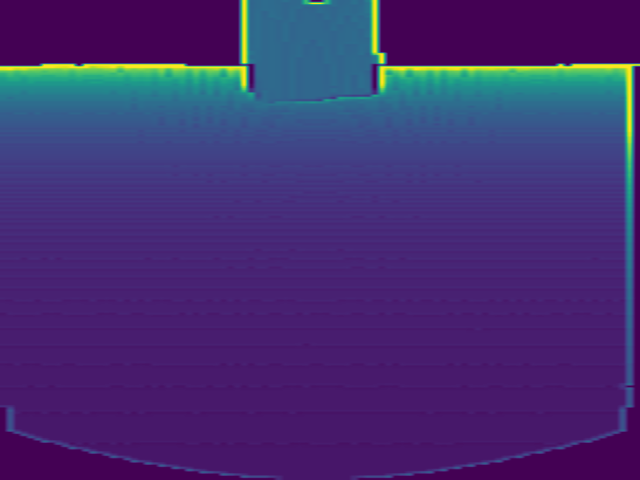cylinder: (237, 1, 388, 103)
